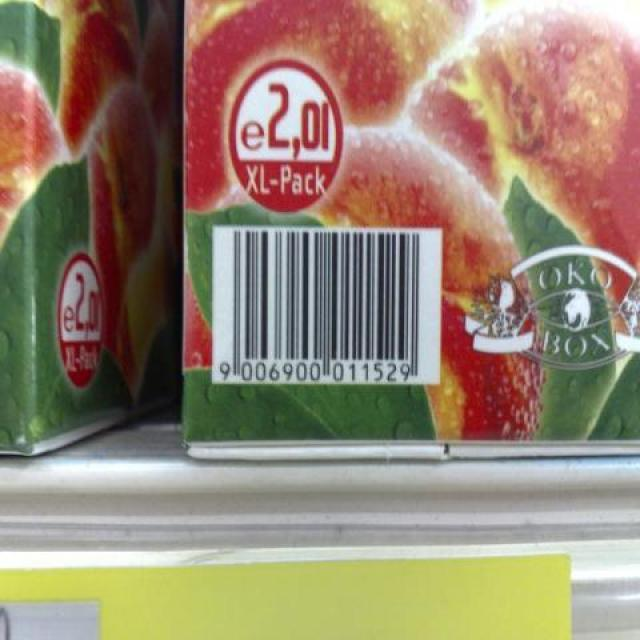Barcode: (212, 225, 440, 384)
